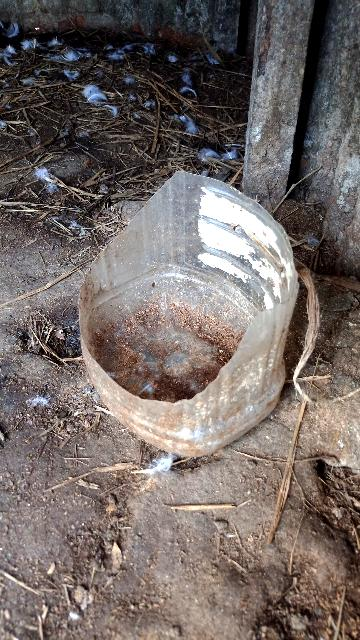bottle: (0, 157, 341, 508)
